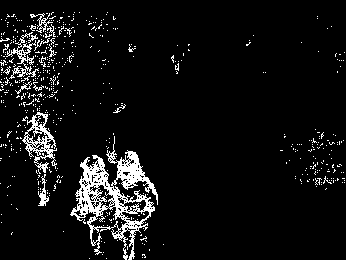person: (113, 149, 158, 259), (72, 154, 115, 254), (24, 110, 56, 207)
